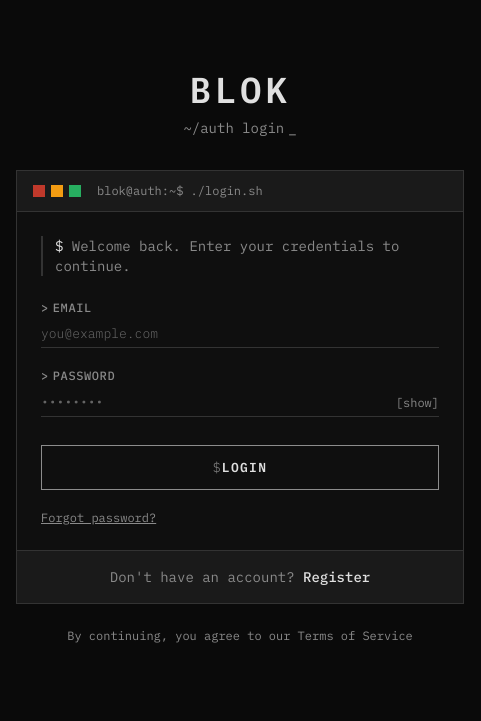
Test: client-side validation › shows password mismatch error
Click the button "Register" at (337, 577), box [303, 567, 370, 587]
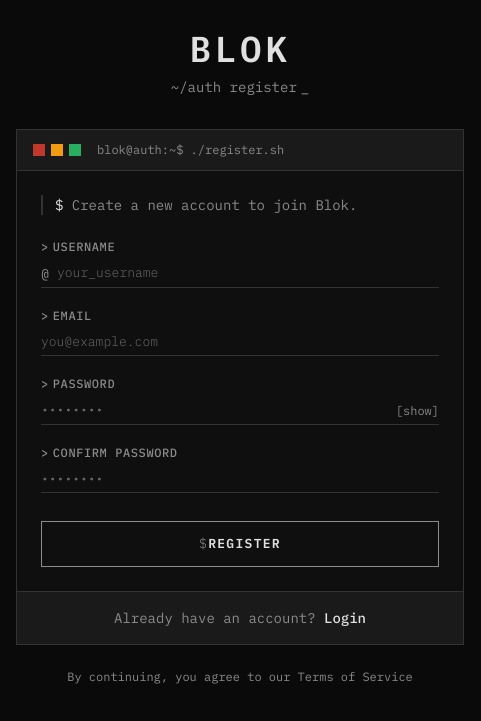
Type "alice" into the field with placeholder "your_username" at (240, 274), box [41, 259, 439, 288]
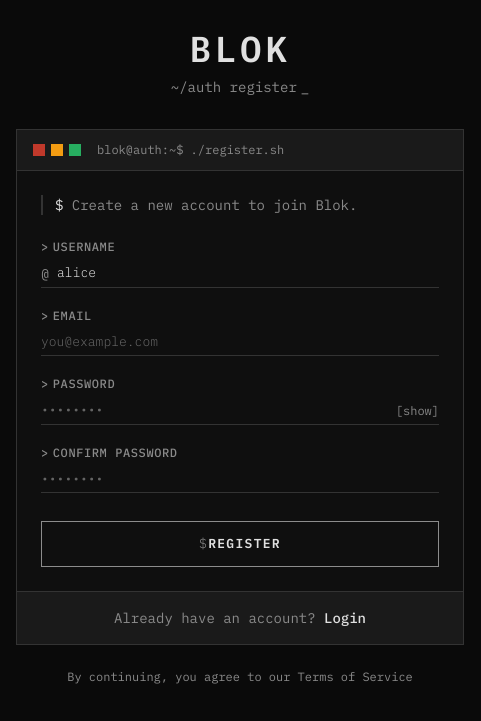
Type "a@b.com" into the field with placeholder "you@example.com" at (240, 342), box [41, 328, 439, 356]
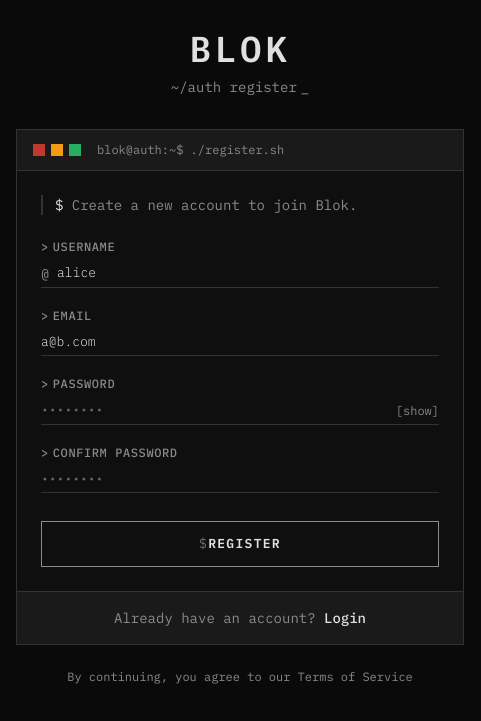
Type "password1" into the 1st password field with placeholder "••••••••" at (240, 411), box [41, 396, 439, 425]
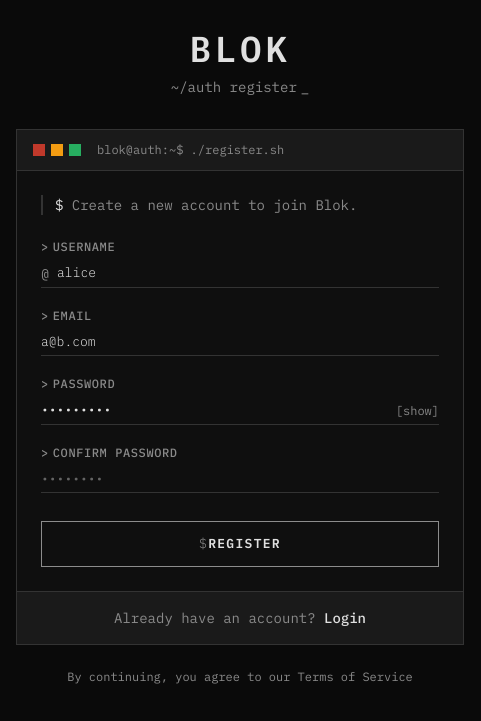
Type "password2" into the password field with placeholder "••••••••" at (240, 479), box [41, 465, 439, 493]
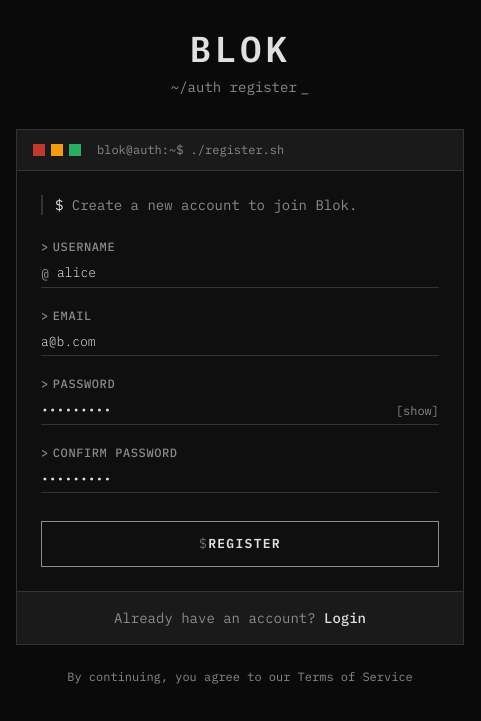
Submit the form from the button "Register", box [41, 521, 439, 567]
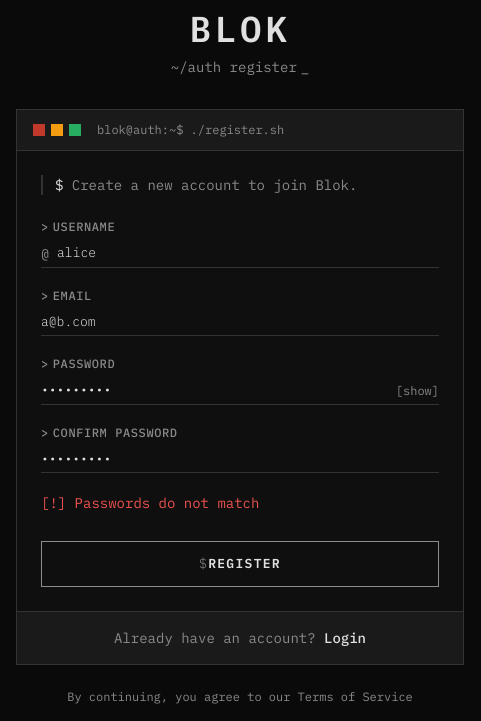
Check: the text "Passwords do not match" is shown, box [75, 494, 259, 512]
